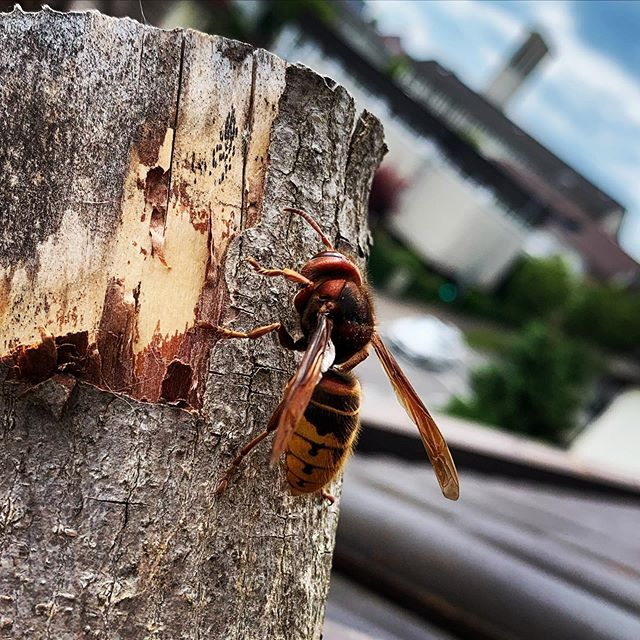insect: (171, 216, 448, 513)
